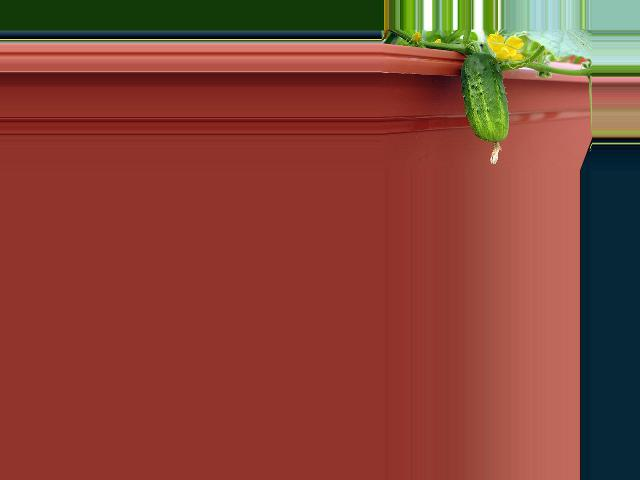cucumber: (461, 52, 509, 165)
